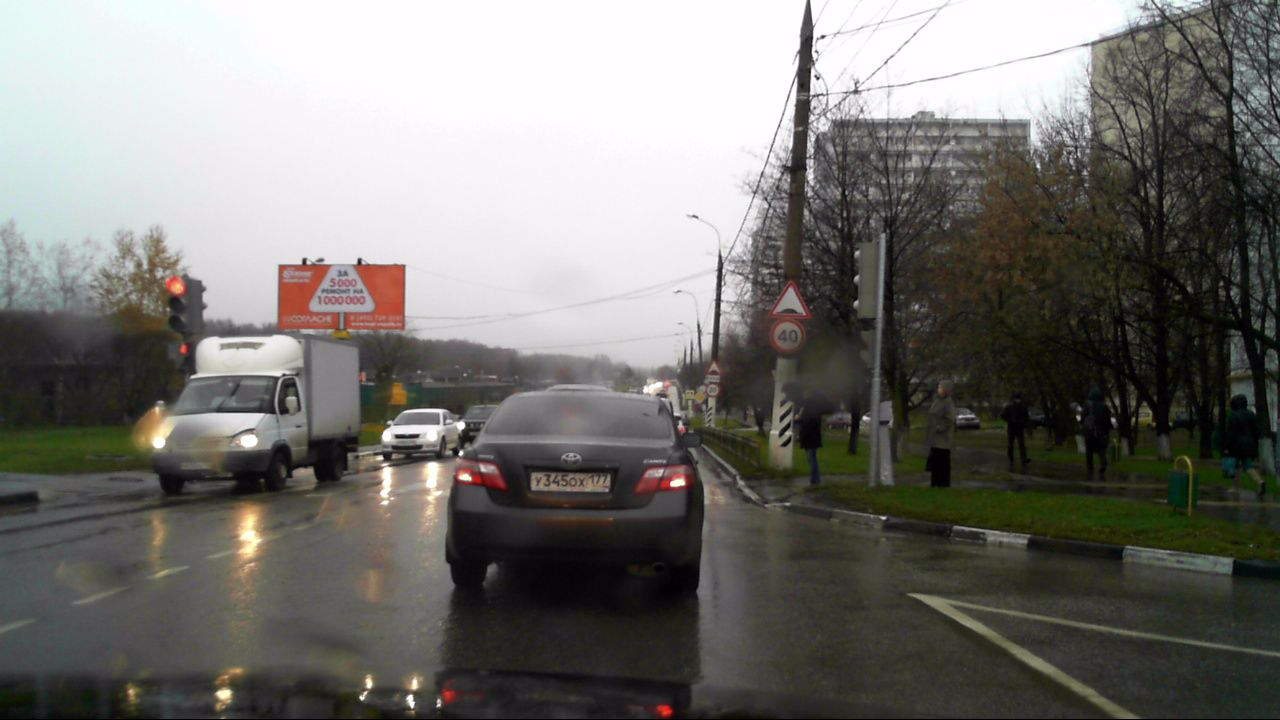speed_warning_40: (770, 320, 804, 352)
